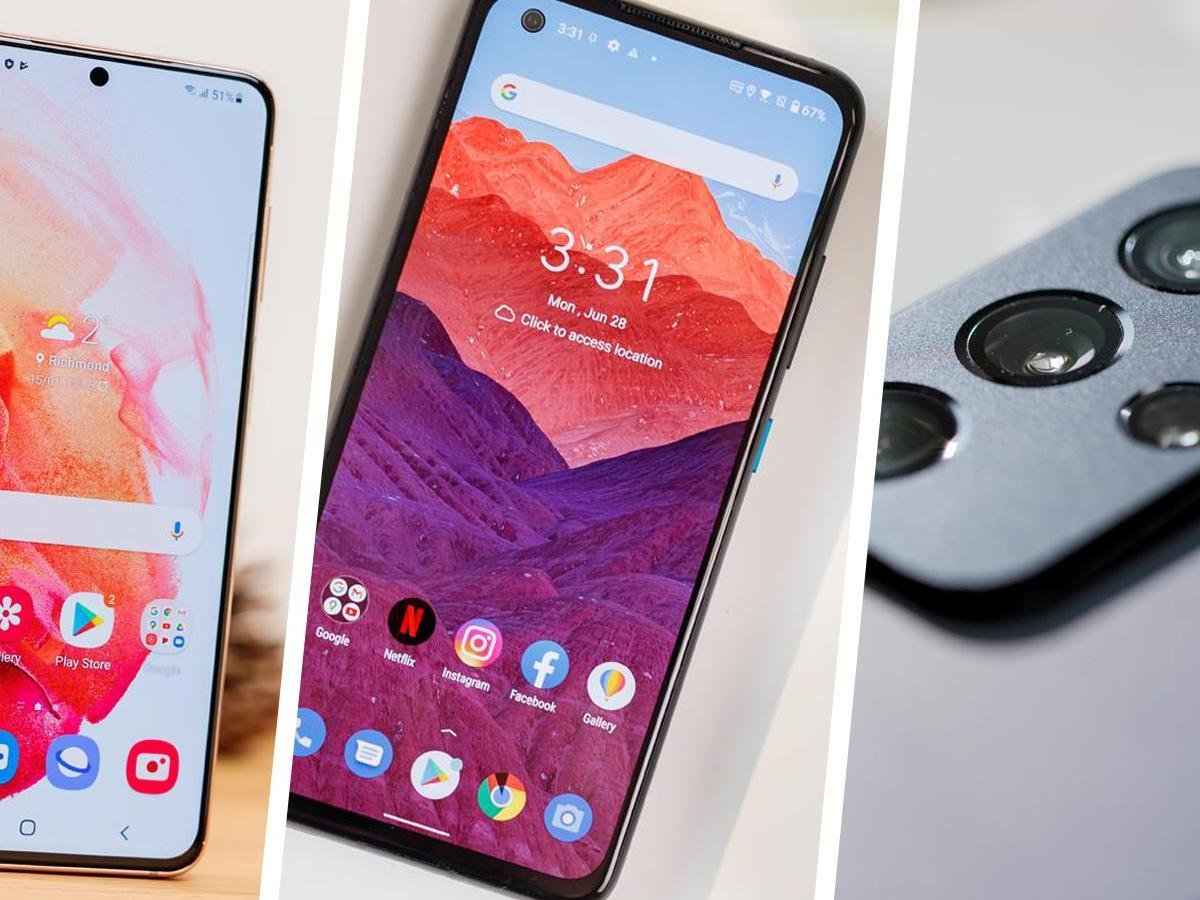phones: (313, 7, 864, 878)
